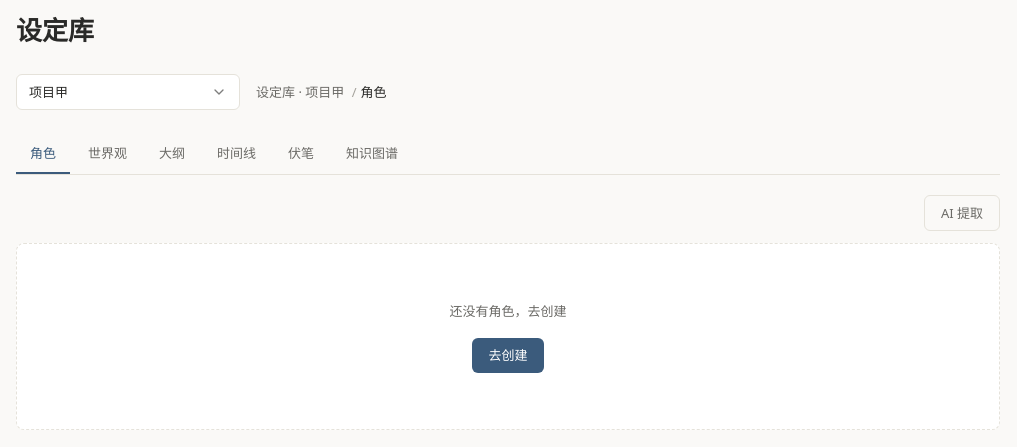
设定库页 — 世界观分类 kind 图标 + 地图入口（#699） › 地图视图入口仅地理类分类显示：选中地理类显示，选中抽象类隐藏
What coordinates should you click on to do the following:
click the tab "世界观"
I would click on:
 (108, 154)
Its box is [74,134,141,174].
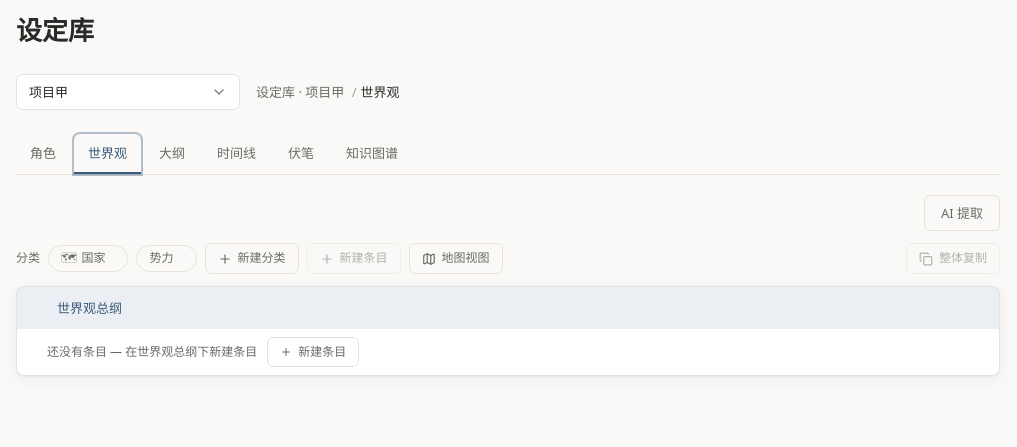
Expected: the button with test id "world-cat-filter-国家" is shown
What coordinates should you click on to do the following:
click the button with test id "world-cat-filter-国家"
I would click on:
 (83, 259)
Its box is [61,248,106,269].
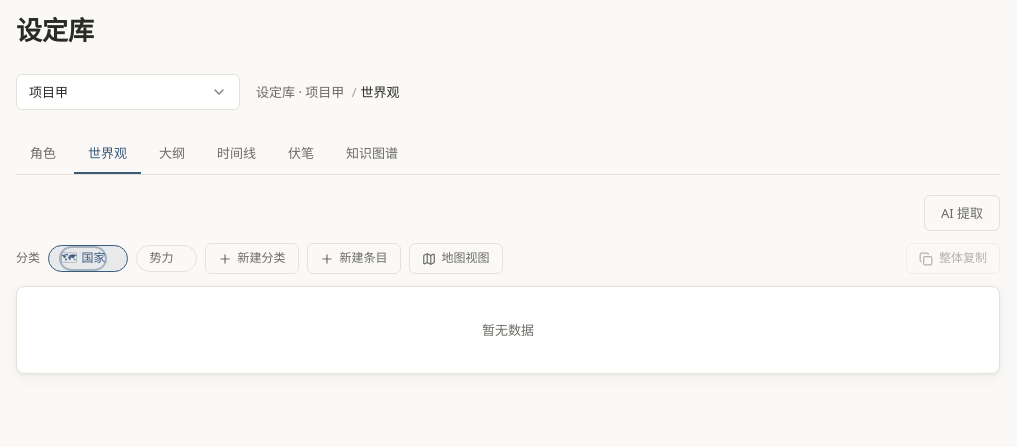
Expected: the button with test id "map-view-entry" is shown, [408,243,502,274]
What coordinates should you click on to do the following:
click the button with test id "world-cat-filter-势力"
I would click on:
 (162, 259)
Its box is [150,248,174,269].
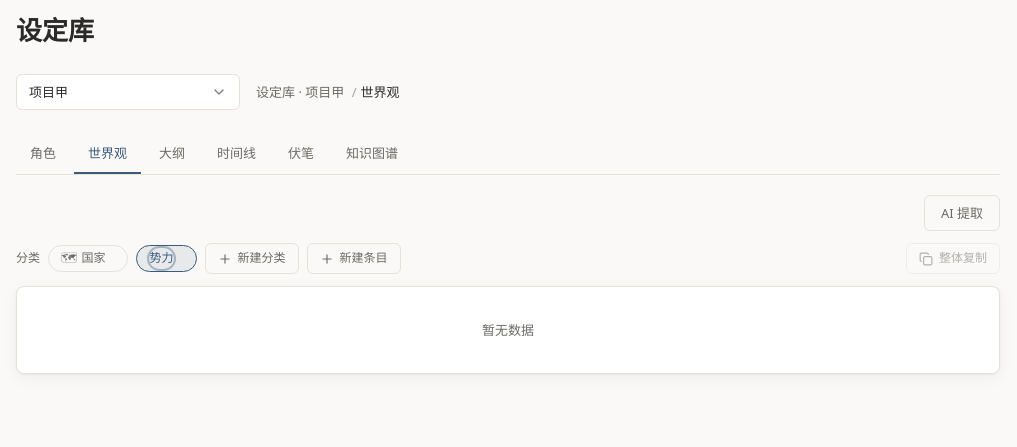
Expected: the button with test id "map-view-entry" is gone
